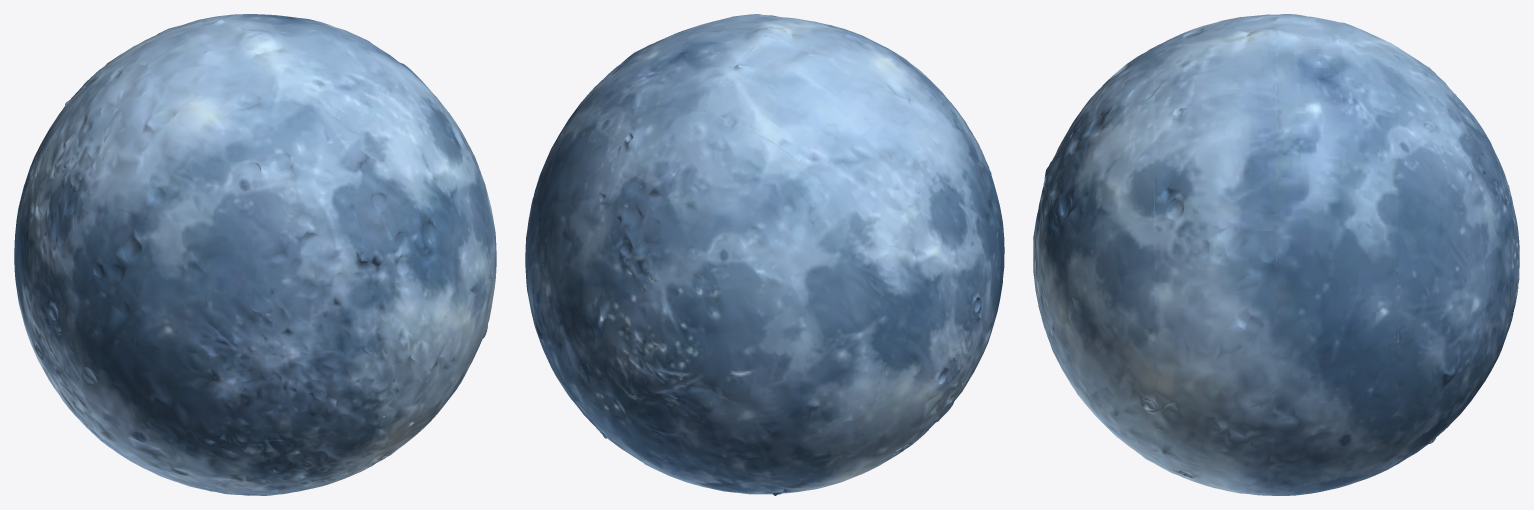
Rendered from moon.glb.
The picture shows the model from 3 angles, left to right: view 1: azimuth 30°, elevation 25°; view 2: azimuth 150°, elevation 25°; view 3: azimuth 270°, elevation 25°; orthographic projection.
Parts seen in each view (by area): view 1: geometry_0; view 2: geometry_0; view 3: geometry_0.
Boxes of the visible parts, left/top/right/bottom form: geometry_0: left=14, top=14, right=496, bottom=495; geometry_0: left=525, top=14, right=1004, bottom=495; geometry_0: left=1033, top=14, right=1519, bottom=495.
Bounding box in the file's own units: 0.9862 × 0.9979 × 0.9999.
Materials: 1 (1 with a texture image).
